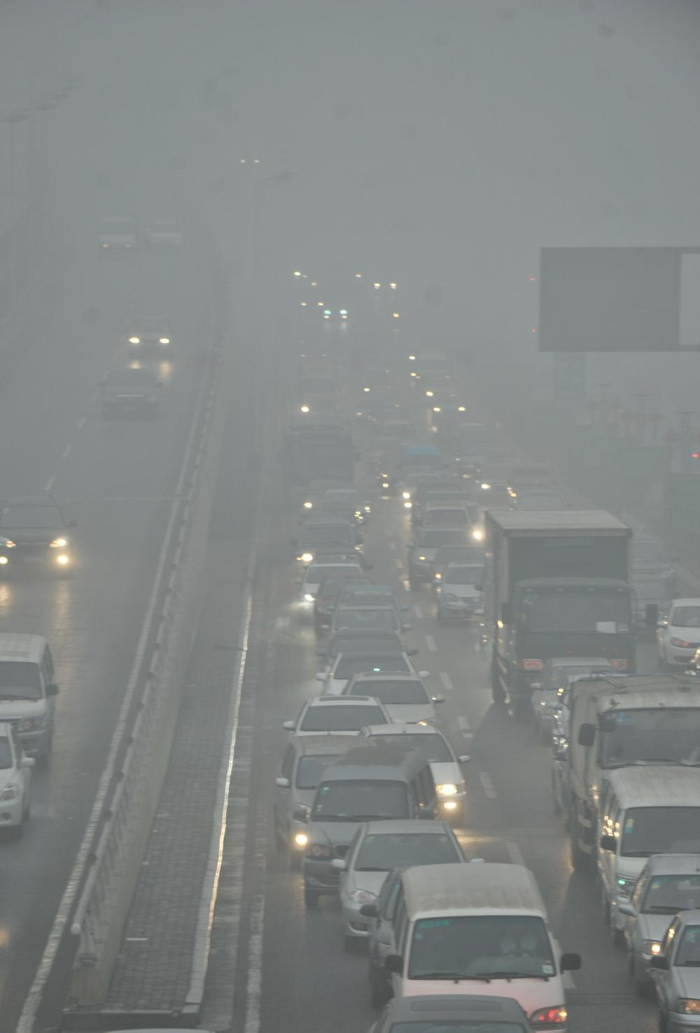bus: (474, 502, 643, 716), (549, 667, 700, 841), (277, 425, 362, 506)
car: (357, 860, 585, 1033), (299, 743, 442, 911), (330, 815, 490, 960), (272, 729, 396, 866), (594, 765, 700, 923), (342, 718, 474, 826), (277, 687, 408, 770), (619, 846, 700, 980), (526, 648, 629, 741), (1, 632, 60, 769), (333, 667, 449, 736), (1, 490, 76, 578), (322, 646, 430, 707), (648, 907, 700, 1033), (325, 603, 414, 662), (315, 574, 393, 638), (1, 720, 42, 837), (406, 519, 479, 584), (434, 555, 503, 622), (291, 515, 369, 572), (296, 563, 376, 618), (427, 537, 497, 598), (620, 574, 684, 639), (93, 368, 166, 421), (295, 546, 374, 590), (655, 595, 700, 671), (418, 496, 479, 544), (121, 314, 178, 360), (316, 487, 370, 528), (98, 215, 138, 255), (142, 221, 185, 252)
